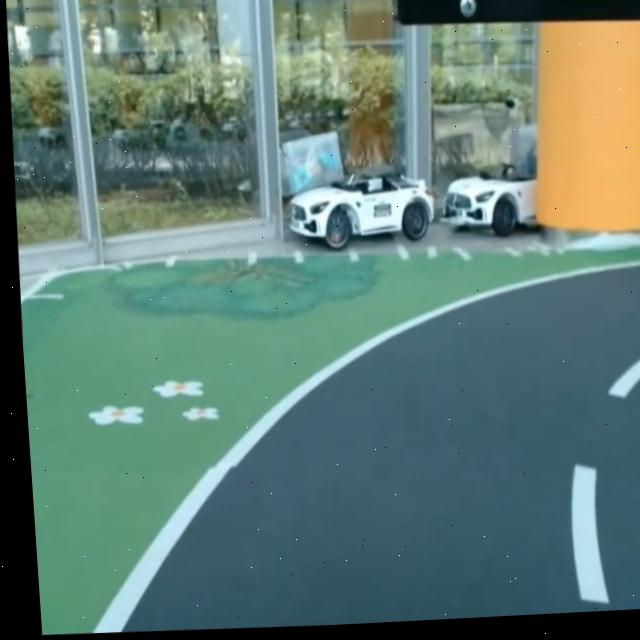traffic-light: (381, 0, 640, 31)
